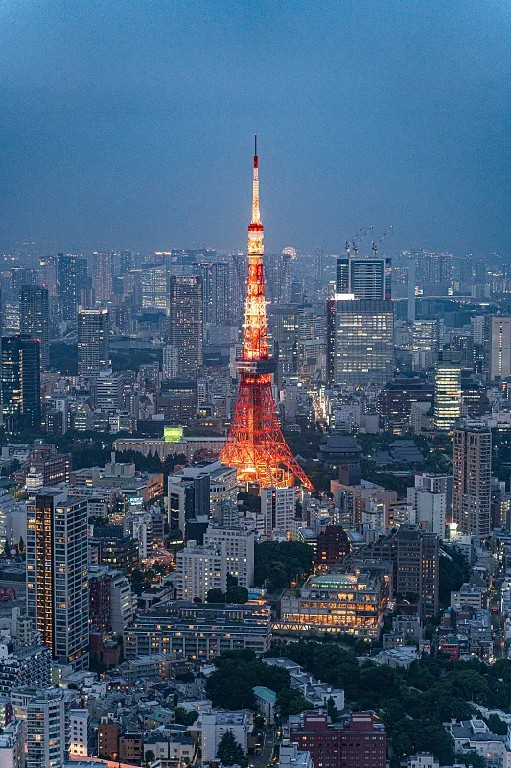Tokyo: (210, 129, 318, 492)
